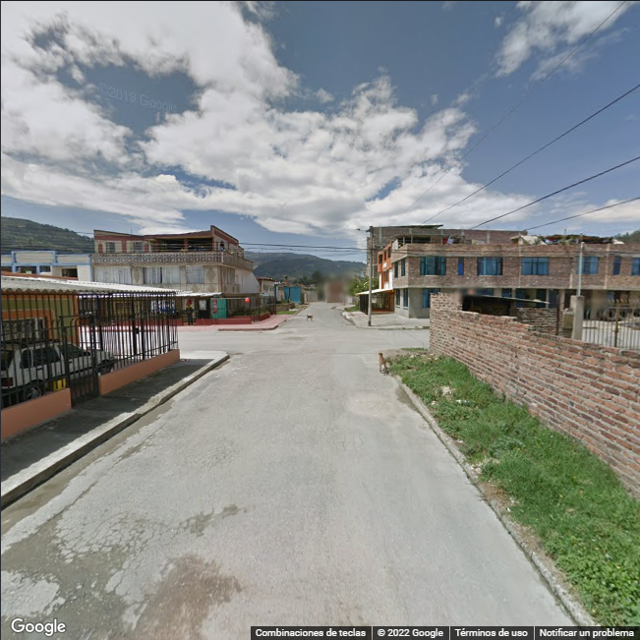D00: (335, 428, 353, 458)
D20: (61, 512, 180, 560), (193, 438, 248, 466)
